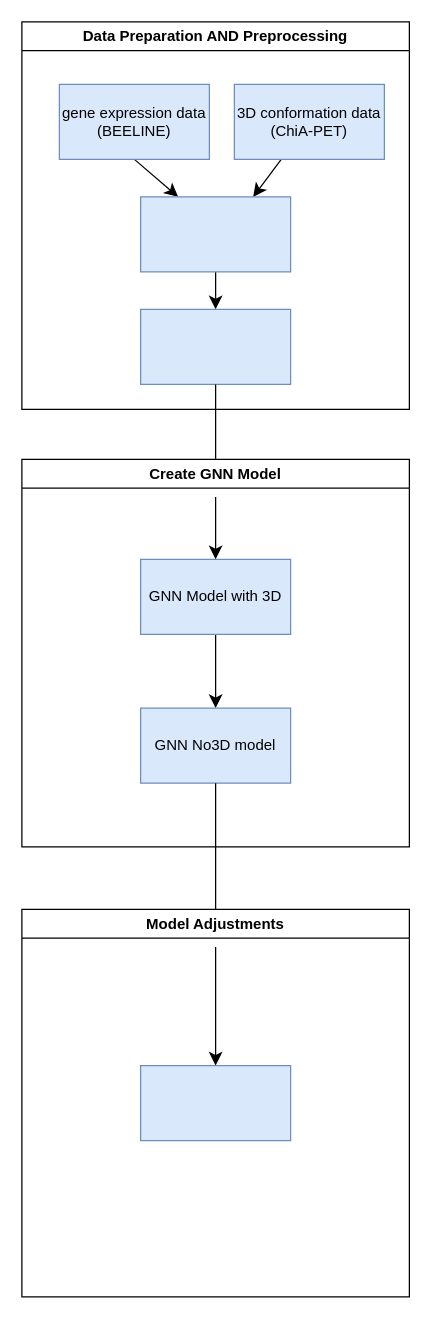
Some shapes in this 431 by 1319 pixel diagram are drawn without their labels. Each missing label, with the centre of its shape:
"Evaluate GNN accuracy" belongs at point 215,1102.
"Format the input data for GNN" belongs at point 215,234.
"Introduce 3D features" belongs at point 215,346.
